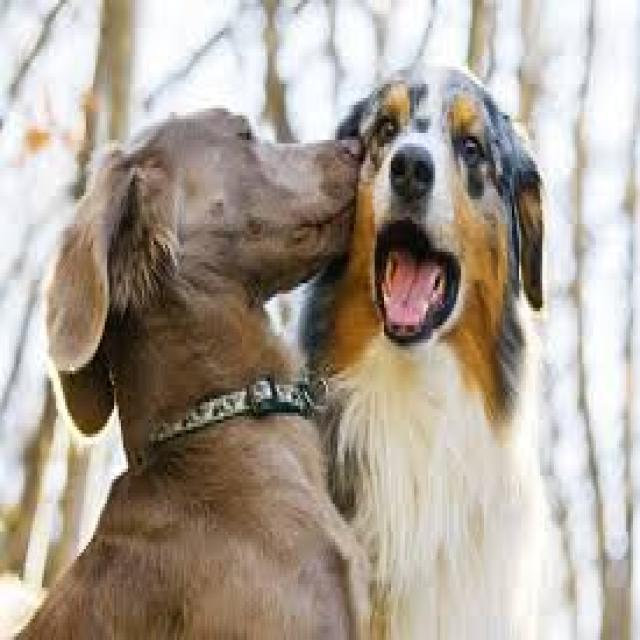Dog: (16, 100, 360, 640), (343, 66, 551, 640)
